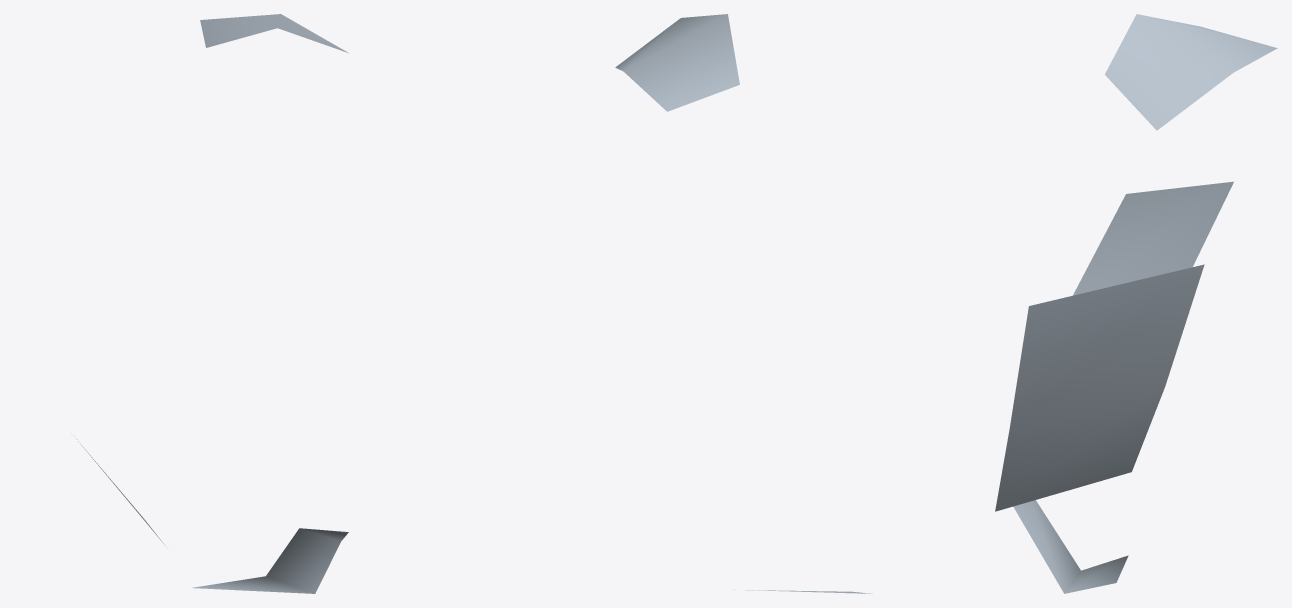
Rendered from pisotriquetral-ligament-l.glb.
3 renders of one model, left to right at view 1: azimuth 30°, elevation 25°; view 2: azimuth 150°, elevation 25°; view 3: azimuth 270°, elevation 25°, orthographic. The views are drawn at different scales.
Parts seen in each view (by area): view 1: Pisotriquetral ligament.l; view 2: Pisotriquetral ligament.l; view 3: Pisotriquetral ligament.l.
Boxes of the visible parts, <box> form: Pisotriquetral ligament.l: <box>73,14,349,593</box>; Pisotriquetral ligament.l: <box>615,14,872,593</box>; Pisotriquetral ligament.l: <box>995,14,1277,593</box>.
Bounding box in the file's own units: 0.00711 × 0.00981 × 0.00435.
